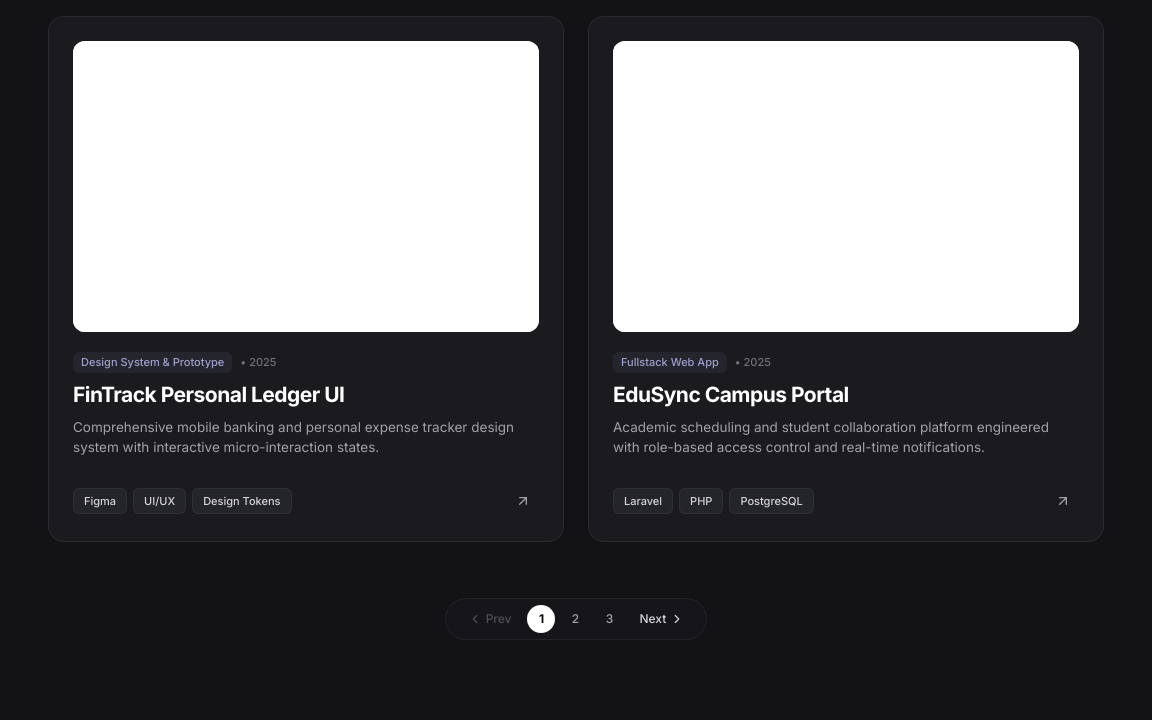
Scenario: Zahra Portfolio V2 — Specification & Component Verification › paginates ProjectsCatalog (6 per page, 2-column grid) and resets page to 1 when category filter changes
The image size is (1152, 720).
(page scrolled)
Note: Navigate to Page 2
Click the button "2" at {"x": 576, "y": 619}, box [562, 605, 590, 633]
(page scrolled)
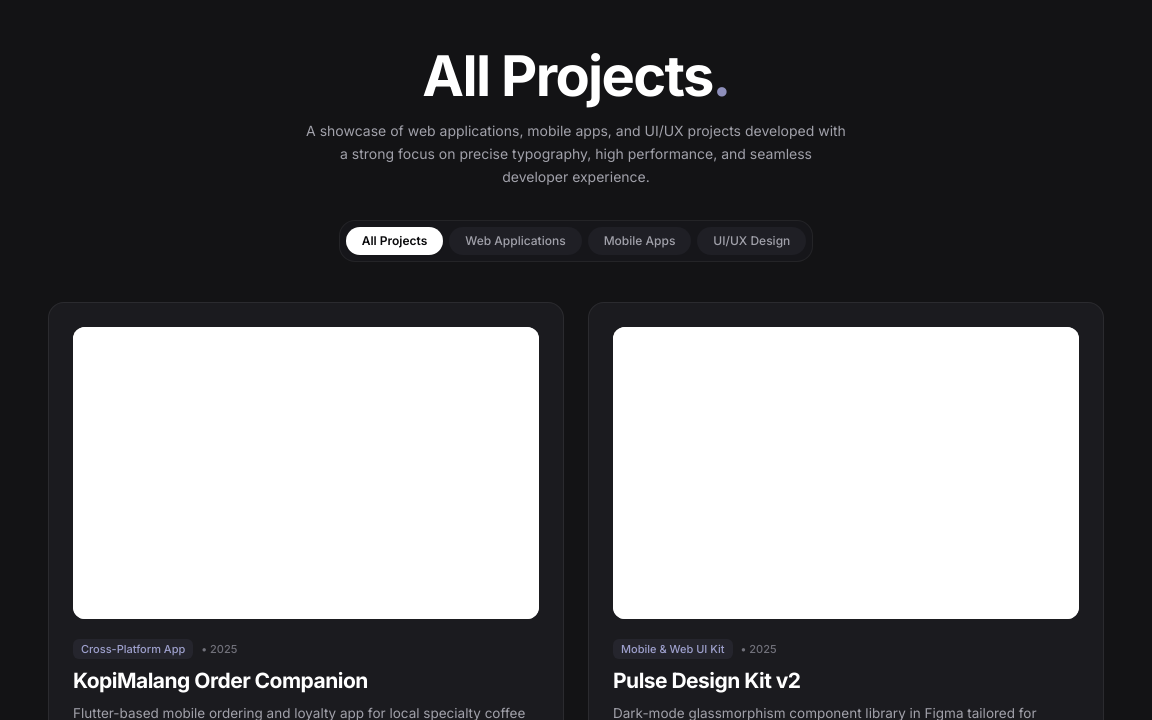
Note: Switching category filter resets to Page 1
Click the tab "Mobile Apps" at {"x": 639, "y": 241}, box [588, 227, 691, 255]
(page scrolled)
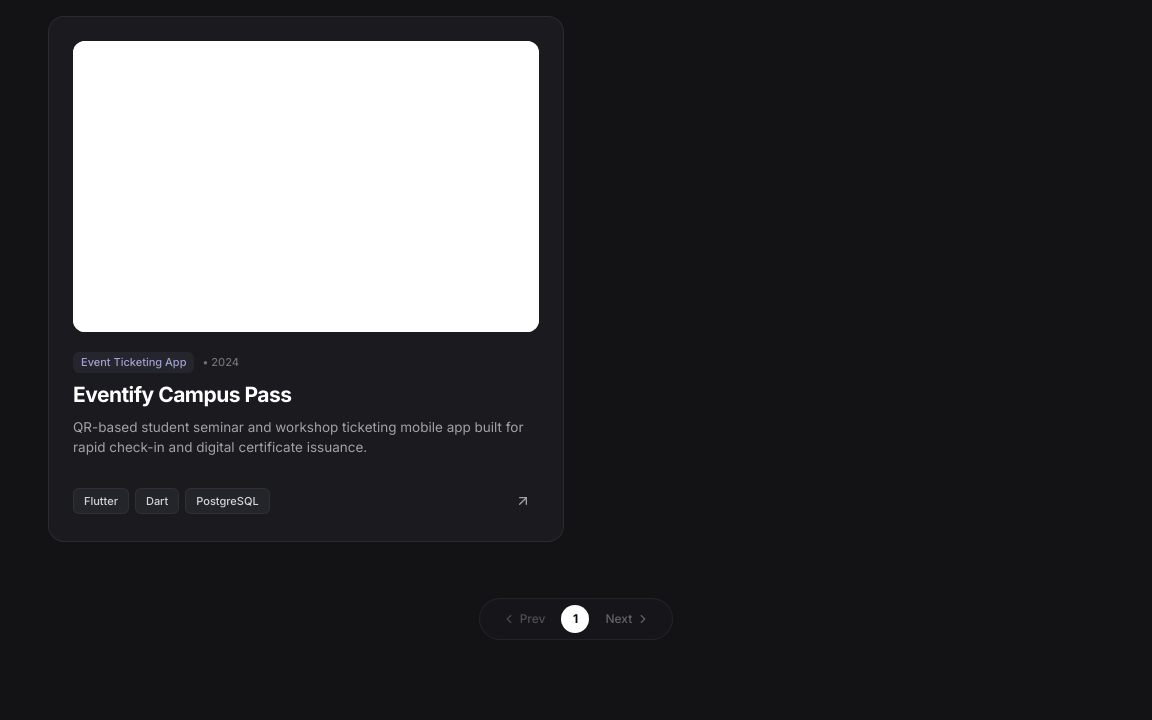
Now the button "1" is marked as current, box [562, 605, 590, 633]
